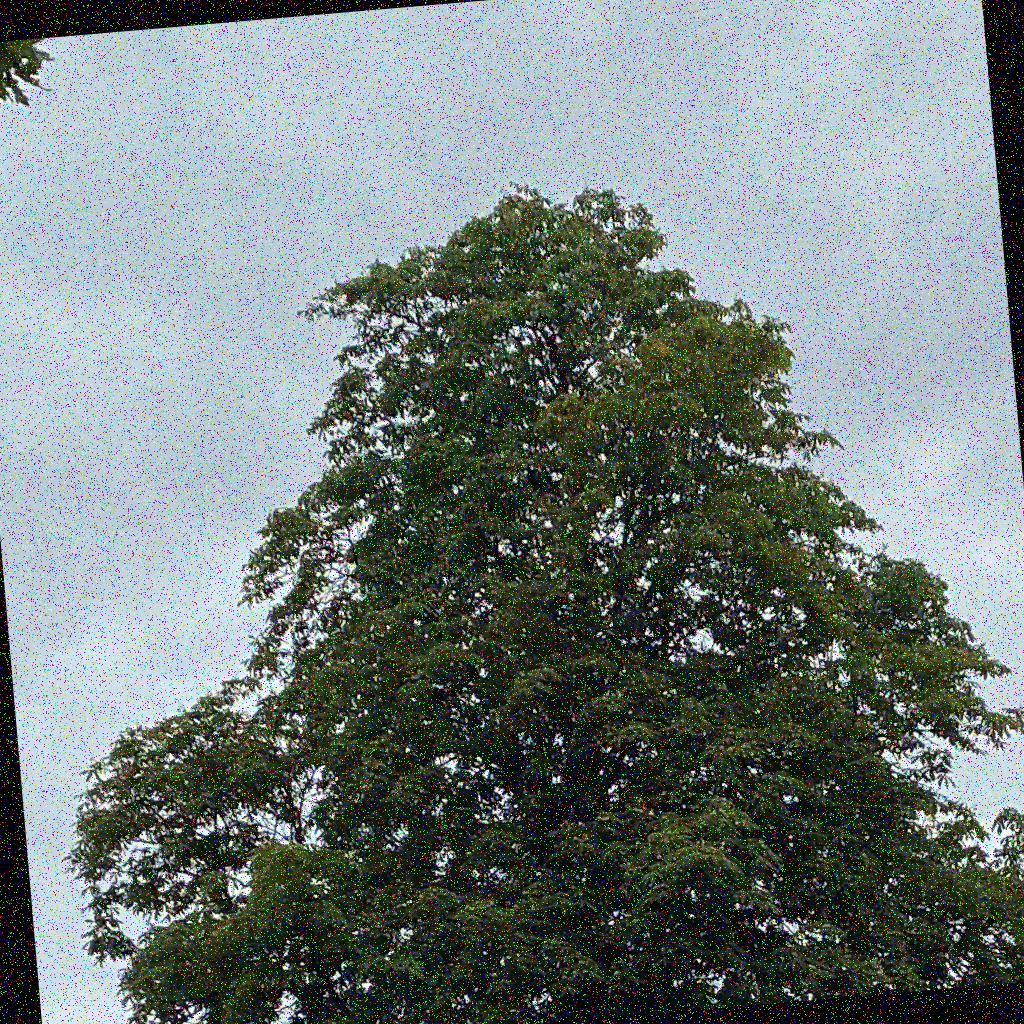tree: (60, 182, 1023, 1023), (1, 37, 53, 107)
